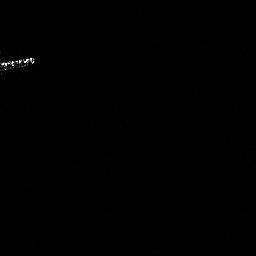ship: (1, 56, 36, 75)
